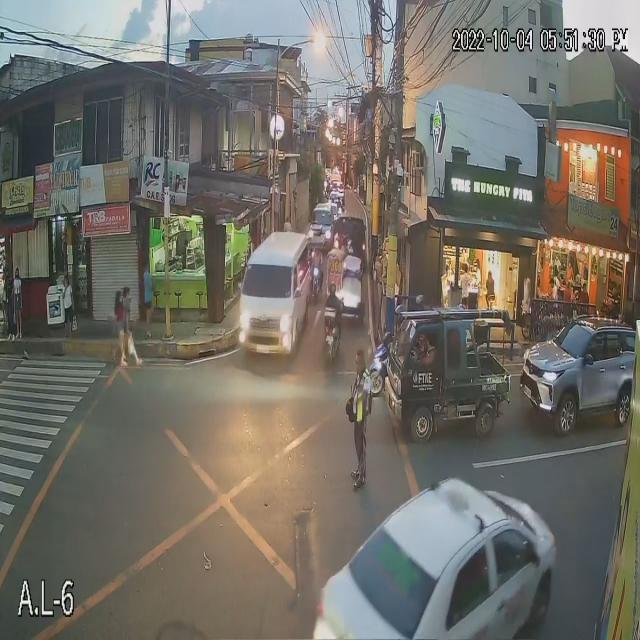helmet: (327, 284, 336, 297)
motorcycle: (363, 339, 394, 398), (322, 310, 341, 360)
rider: (322, 296, 343, 325)
